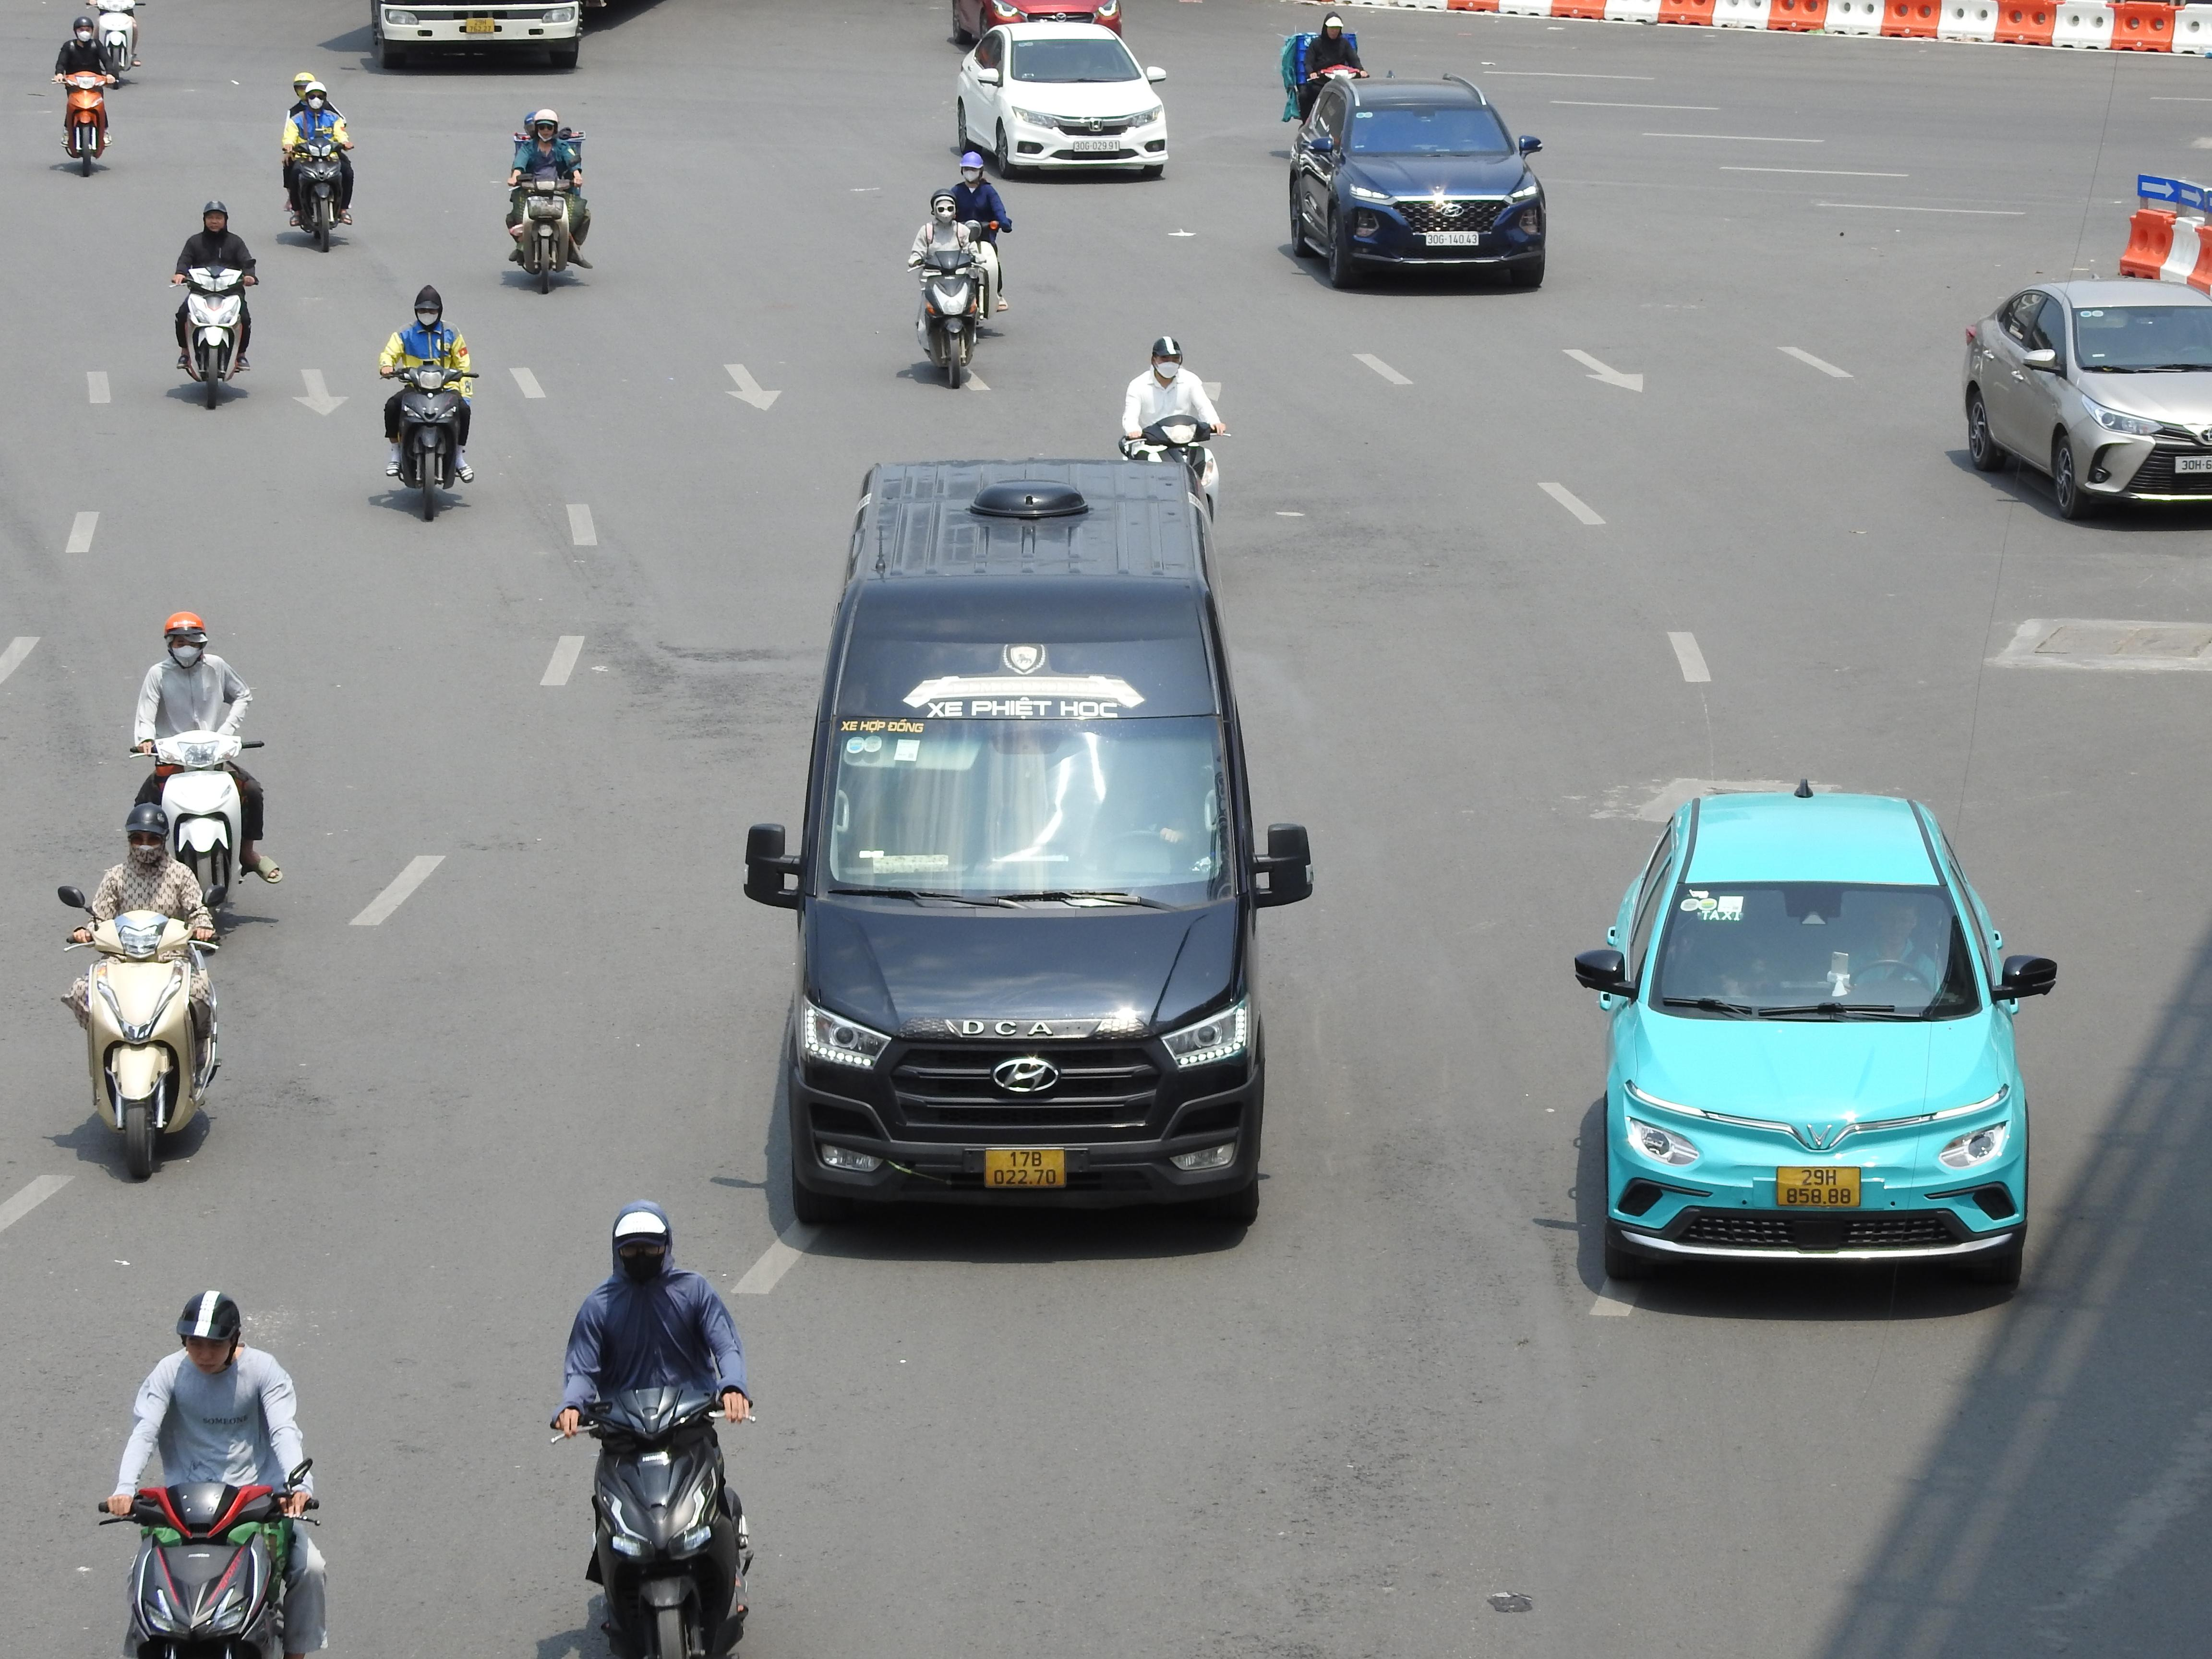BSD: (1425, 232, 1480, 246), (2175, 457, 2212, 474), (1073, 141, 1120, 152)
BSV: (1775, 1166, 1862, 1208), (984, 1147, 1068, 1188), (467, 17, 495, 35)
bus: (744, 455, 1313, 1234)
car: (1573, 782, 2057, 1290), (1963, 277, 2212, 525), (1284, 77, 1547, 293), (953, 19, 1169, 181)
motorbike: (549, 1199, 756, 1659), (101, 1288, 329, 1659), (61, 798, 225, 1182), (131, 608, 279, 931), (380, 284, 475, 521), (911, 169, 1008, 390), (1118, 336, 1224, 518), (172, 199, 256, 410), (505, 106, 592, 293), (280, 73, 355, 251), (1280, 10, 1367, 125), (54, 12, 113, 176), (82, 0, 145, 87)
